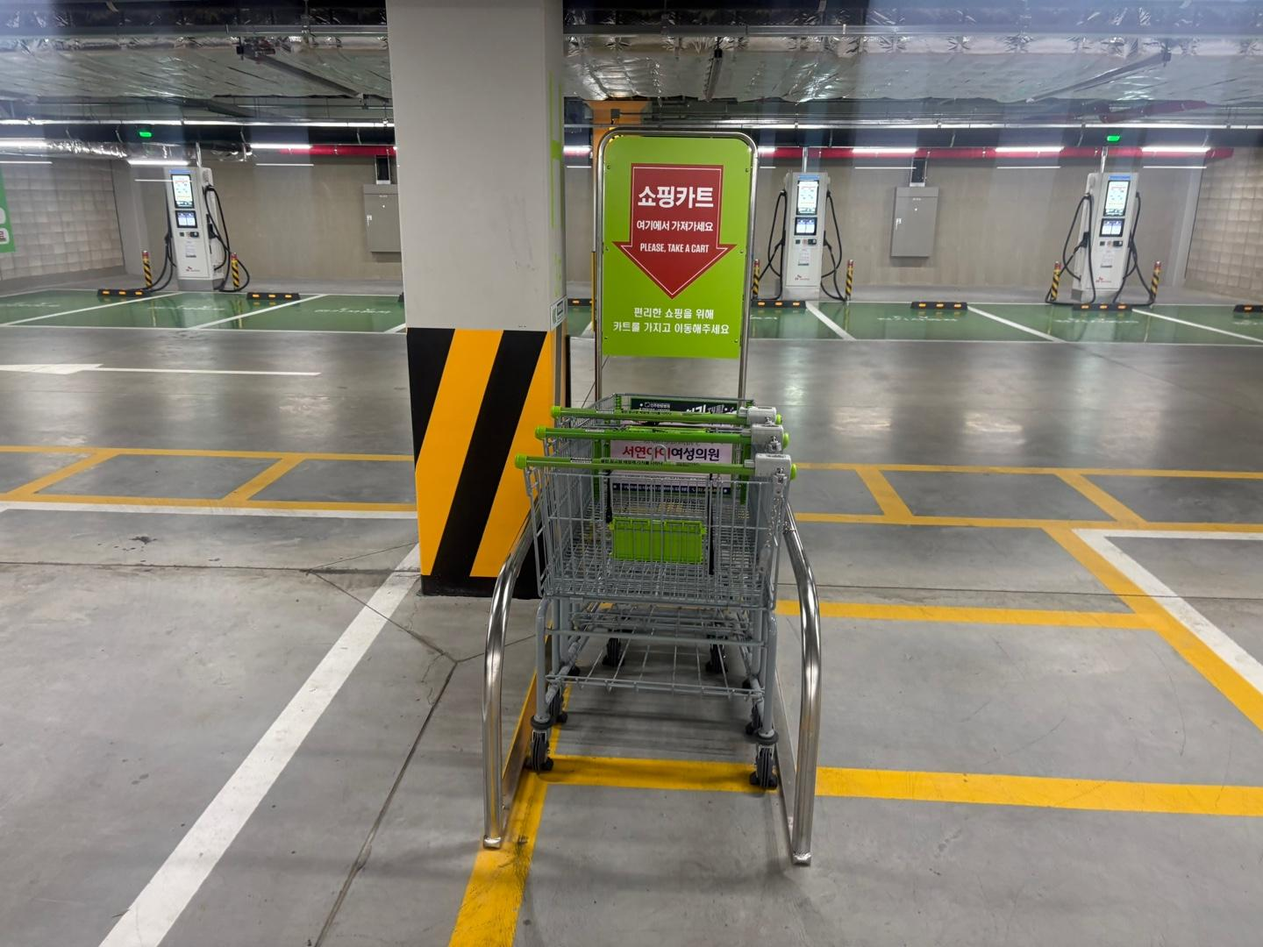combined_cart: (483, 391, 825, 869)
